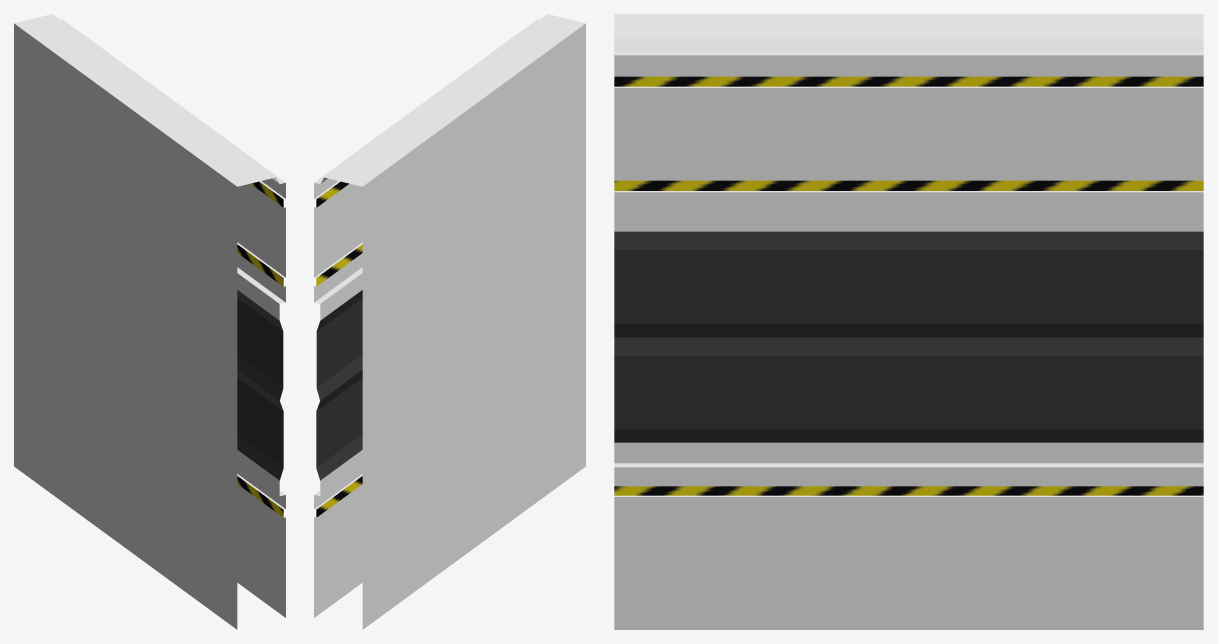
Rendered from F_Wall_03.fbx.
3 views of the same model, side by side, from view 1: azimuth 30°, elevation 25°; view 2: azimuth 150°, elevation 25°; view 3: azimuth 270°, elevation 25° (orthographic). The views are drawn at different scales.
Parts seen in each view (by area): view 1: F_Wall_03; view 2: F_Wall_03; view 3: F_Wall_03.
Boxes of the visible parts, x1,y1,x2,y2 form: F_Wall_03: (14,14,285,629); F_Wall_03: (314,14,585,629); F_Wall_03: (614,14,1203,629).
Bounding box in the file's own units: 34.31 × 300 × 274.
